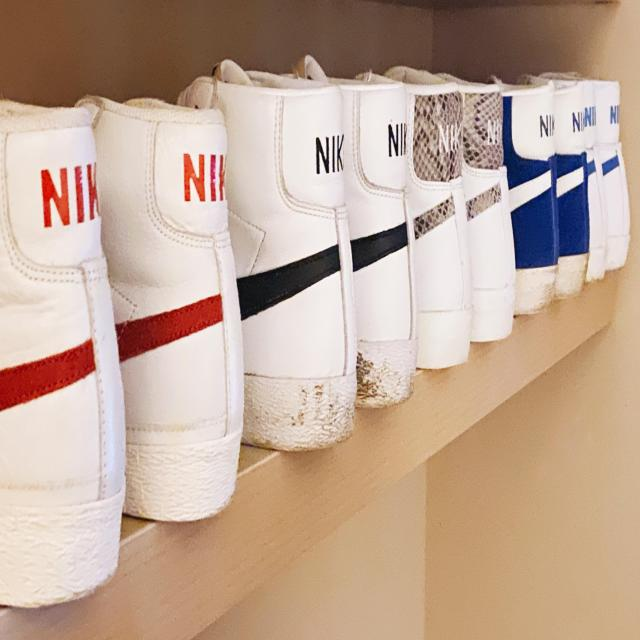shoe: (0, 98, 132, 615), (137, 96, 258, 544), (249, 61, 361, 477), (419, 73, 507, 456), (359, 77, 432, 461), (520, 92, 557, 338), (562, 78, 592, 324), (598, 77, 632, 282)
